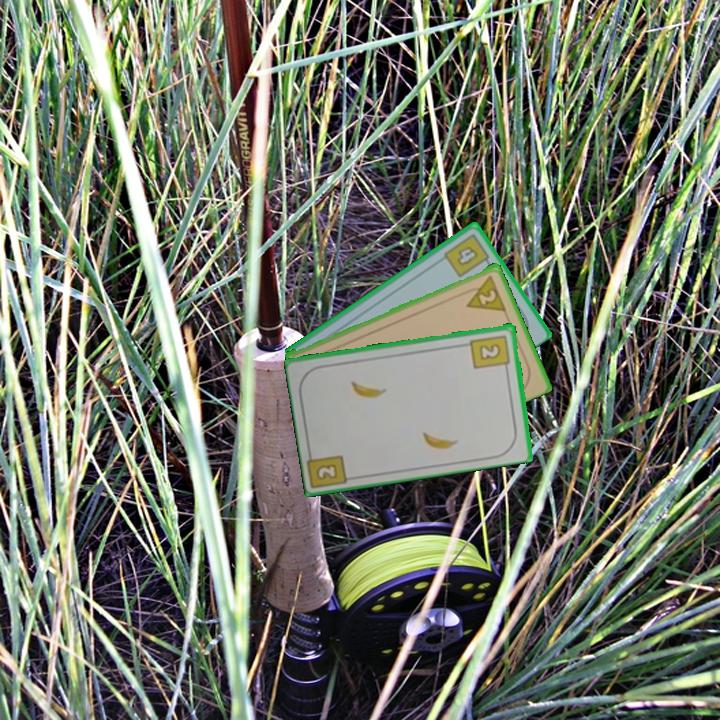2b: (467, 331, 513, 373), (312, 460, 341, 483)
2p: (459, 270, 508, 314)
4b: (440, 230, 494, 280)
